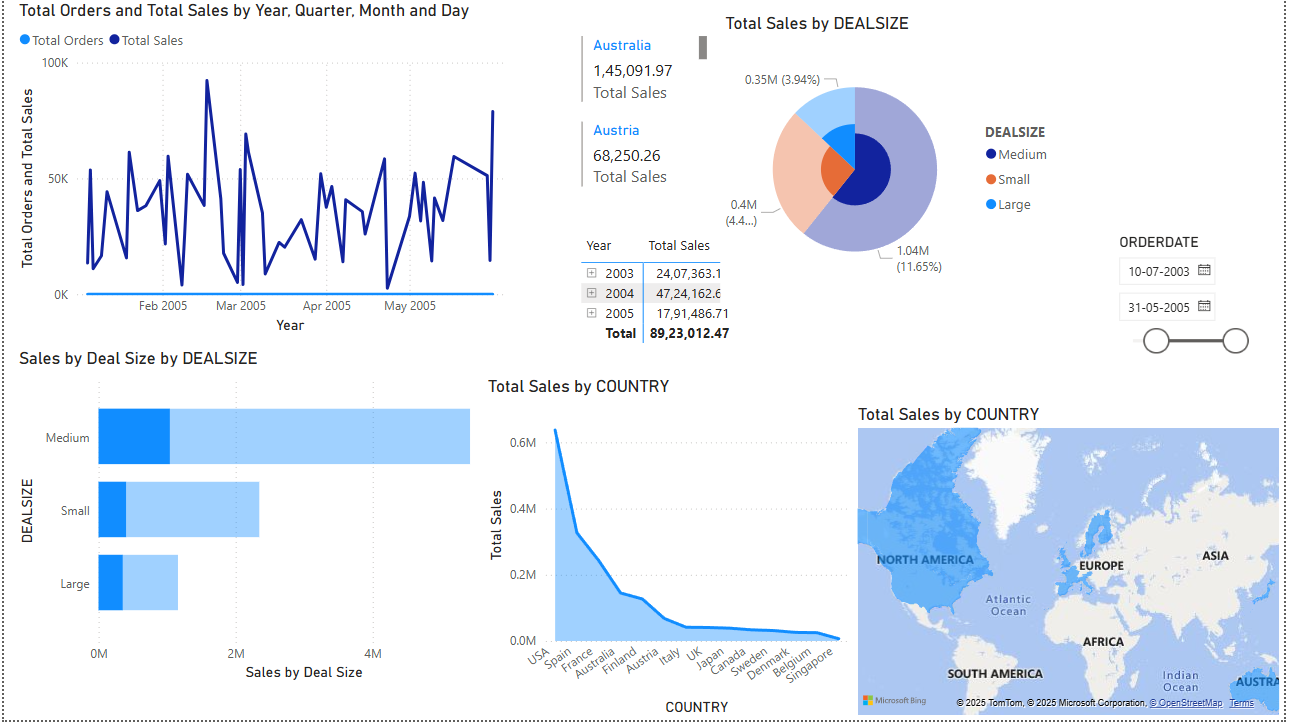

The page's visual inventory and layout, read from the dashboard file:
{"tool":"powerbi","page":{"name":"Page 1","canvas":[1280,720],"ordinal":0},"visuals":[{"type":"lineChart","fields":{"Y":["DateTable.Total Orders","DateTable.Total Sales"],"Category":["DateTable.Date.Variation.Date Hierarchy.Year","DateTable.Date.Variation.Date Hierarchy.Quarter","DateTable.Date.Variation.Date Hierarchy.Month","DateTable.Date.Variation.Date Hierarchy.Day"]},"box":[10,0,510,338],"z":0},{"type":"multiRowCard","fields":{"Values":["sales_data_sample.COUNTRY","DateTable.Total Sales"]},"box":[572.5,31.2,135,178.8],"z":1000},{"type":"barChart","fields":{"Y":["DateTable.Sales by Deal Size"],"Category":["sales_data_sample.DEALSIZE"]},"box":[10,348,510,338],"z":2000},{"type":"pivotTable","fields":{"Rows":["DateTable.Date.Variation.Date Hierarchy.Year","DateTable.Date.Variation.Date Hierarchy.Quarter"],"Values":["DateTable.Total Sales"]},"box":[572.5,228.8,192.5,131.2],"z":3000},{"type":"pieChart","fields":{"Category":["sales_data_sample.DEALSIZE"],"Y":["DateTable.Total Sales"]},"box":[716.2,12.5,348.8,295],"z":4000},{"type":"filledMap","fields":{"Category":["sales_data_sample.COUNTRY"]},"box":[848.8,403.8,431.2,316.2],"z":5000},{"type":"stackedAreaChart","fields":{"Y":["DateTable.Total Sales"],"Category":["sales_data_sample.COUNTRY"]},"box":[478.8,376.2,370,343.8],"z":6000},{"type":"slicer","fields":{"Values":["sales_data_sample.ORDERDATE"]},"box":[1102.5,228.8,150,178.8],"z":6001}]}

Visuals, with their boxes in screenshot pixels (x1, y1, x2, y2), scaled from the page's 1280x720 canvas onto the 1290x722 screenshot:
lineChart - DateTable.Total Orders x DateTable.Total Sales: bbox(10, 0, 524, 339)
multiRowCard - sales_data_sample.COUNTRY x DateTable.Total Sales: bbox(577, 31, 713, 211)
barChart - DateTable.Sales by Deal Size x sales_data_sample.DEALSIZE: bbox(10, 349, 524, 688)
pivotTable - DateTable.Date.Variation.Date Hierarchy.Year x DateTable.Date.Variation.Date Hierarchy.Quarter: bbox(577, 229, 771, 361)
pieChart - sales_data_sample.DEALSIZE x DateTable.Total Sales: bbox(722, 13, 1073, 308)
filledMap - sales_data_sample.COUNTRY: bbox(855, 405, 1289, 721)
stackedAreaChart - DateTable.Total Sales x sales_data_sample.COUNTRY: bbox(483, 377, 855, 721)
slicer - sales_data_sample.ORDERDATE: bbox(1111, 229, 1262, 409)
